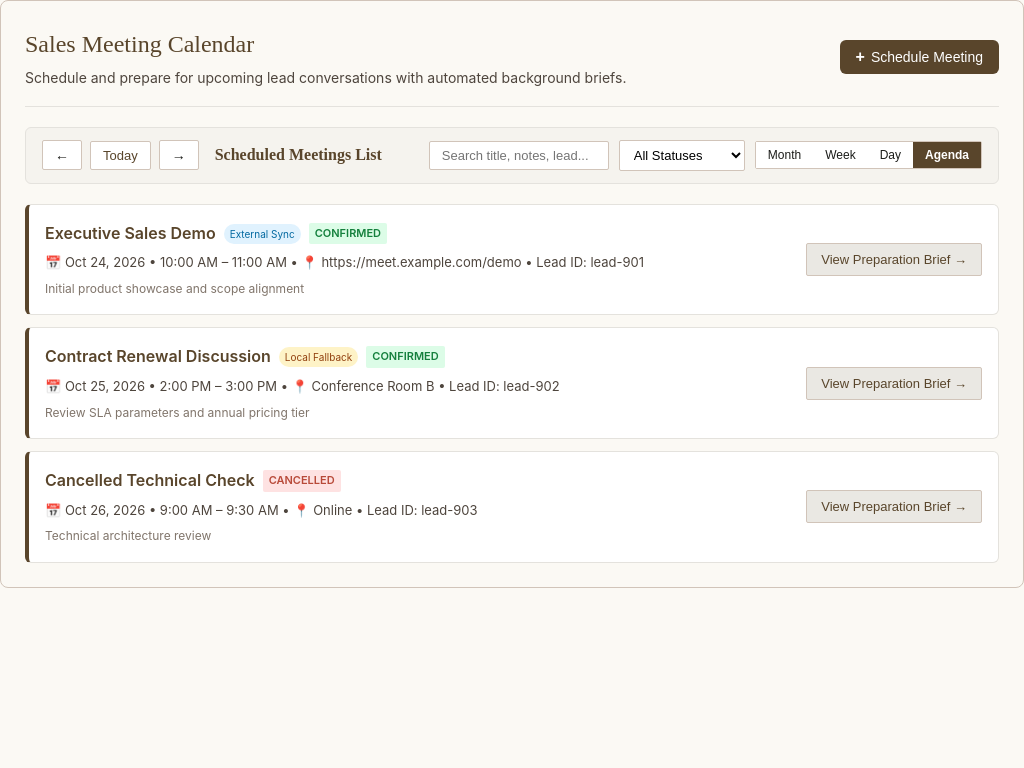
Test: CalendarView Component (Feature 005 - T026) › CalendarView UI Component Rendering › filters meetings list by search input
In the field with test id "search-input": (519, 155) [429, 141, 609, 170], type "Contract Renewal"
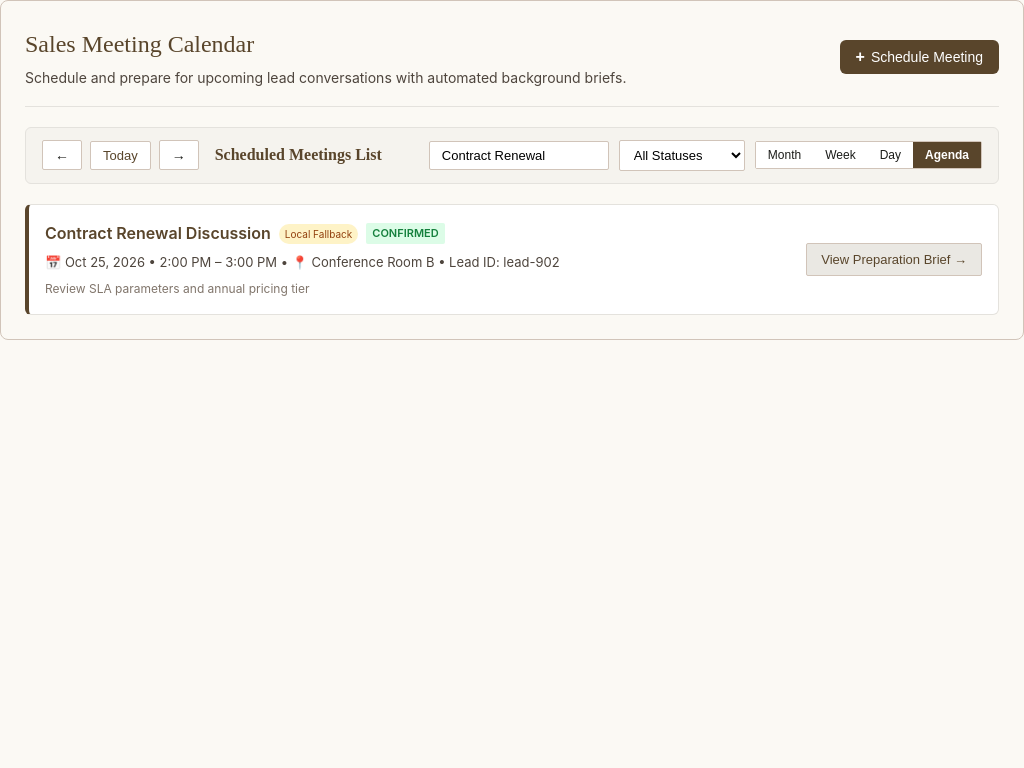
Check: the text "Contract Renewal Discussion" is shown, box [45, 221, 271, 246]
Check: the text "Executive Sales Demo" is gone
